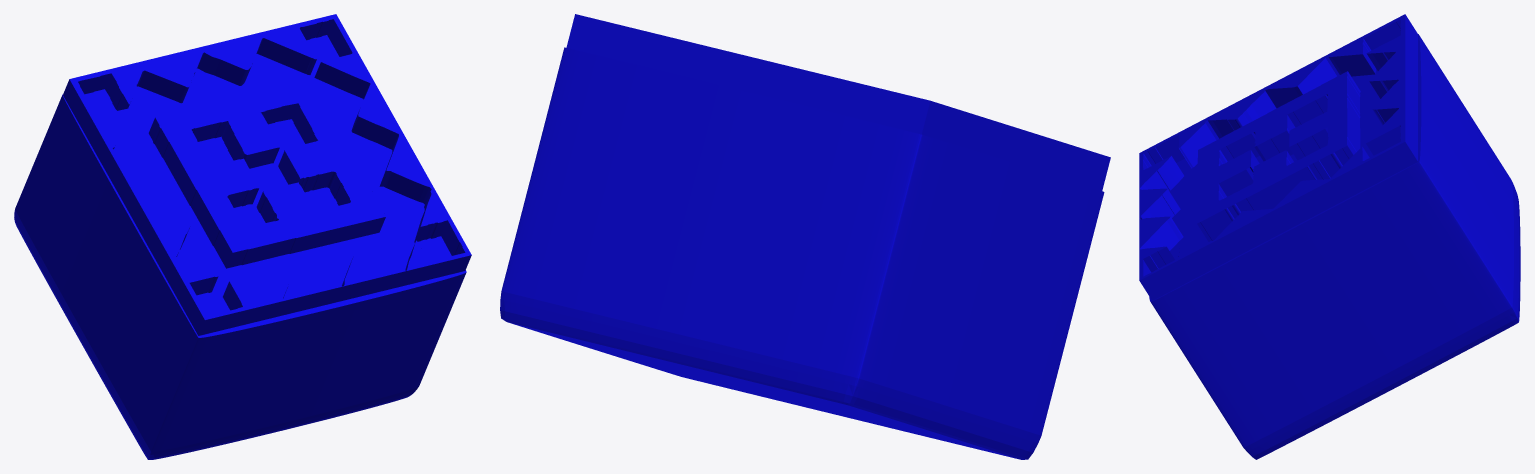
The picture shows the model from 3 angles, left to right: view 1: azimuth 30°, elevation 25°; view 2: azimuth 150°, elevation 25°; view 3: azimuth 270°, elevation 25°; orthographic projection. The views are drawn at different scales.
Visible parts, largest first — view 1: 0; view 2: 0; view 3: 0.
Boxes of the visible parts, x1,y1,x2,y2 form: 0: (14,14,471,459); 0: (500,14,1110,459); 0: (1139,14,1520,459).
Bounding box in the file's own units: 0.0297 × 0.0343 × 0.0369.
